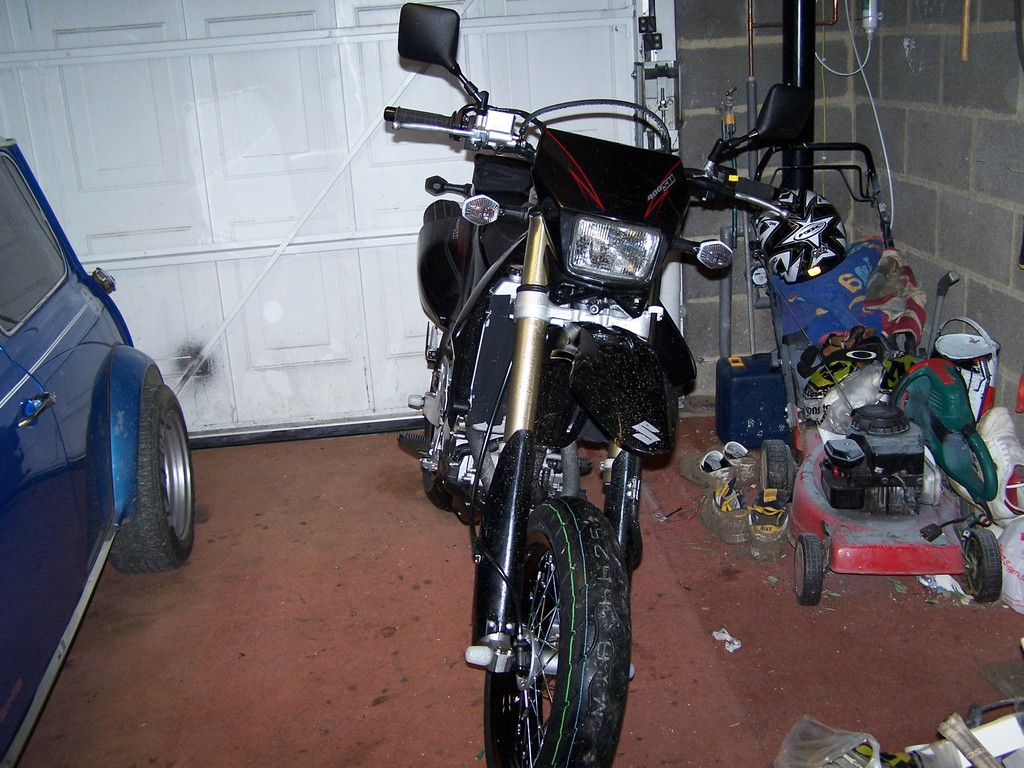Car: (0, 138, 191, 767)
